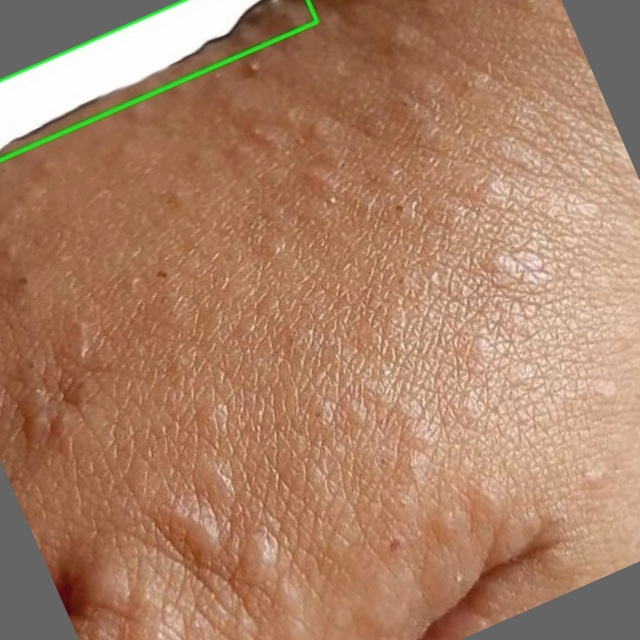Contact Dermatitis: (0, 0, 317, 160)
